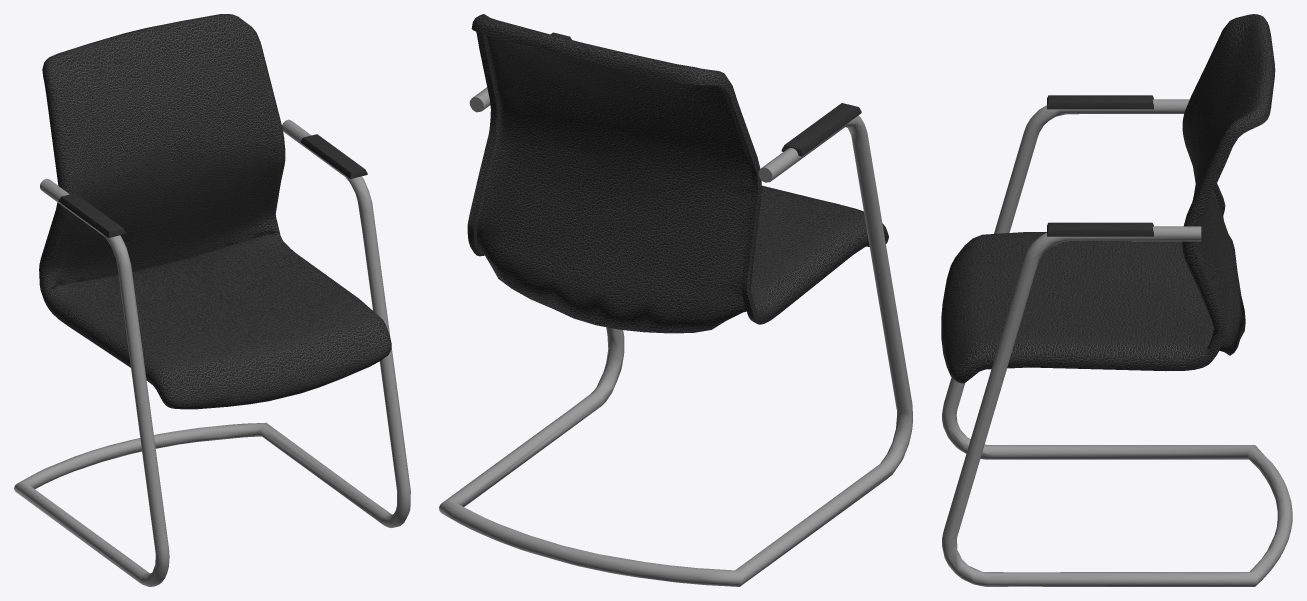
File: Chair 2.FBX
The picture shows the model from 3 angles, left to right: view 1: azimuth 30°, elevation 25°; view 2: azimuth 150°, elevation 25°; view 3: azimuth 270°, elevation 25°; orthographic projection. The views are drawn at different scales.
Parts seen in each view (by area): view 1: Chair 2; view 2: Chair 2; view 3: Chair 2.
Part boxes in pixels (bbox=[...]): Chair 2: bbox=[14, 14, 410, 586]; Chair 2: bbox=[439, 14, 912, 586]; Chair 2: bbox=[941, 14, 1292, 586].
Size of the model in its own units: 62.37 by 98.76 by 68.
Materials: 2 (1 with a texture image).
